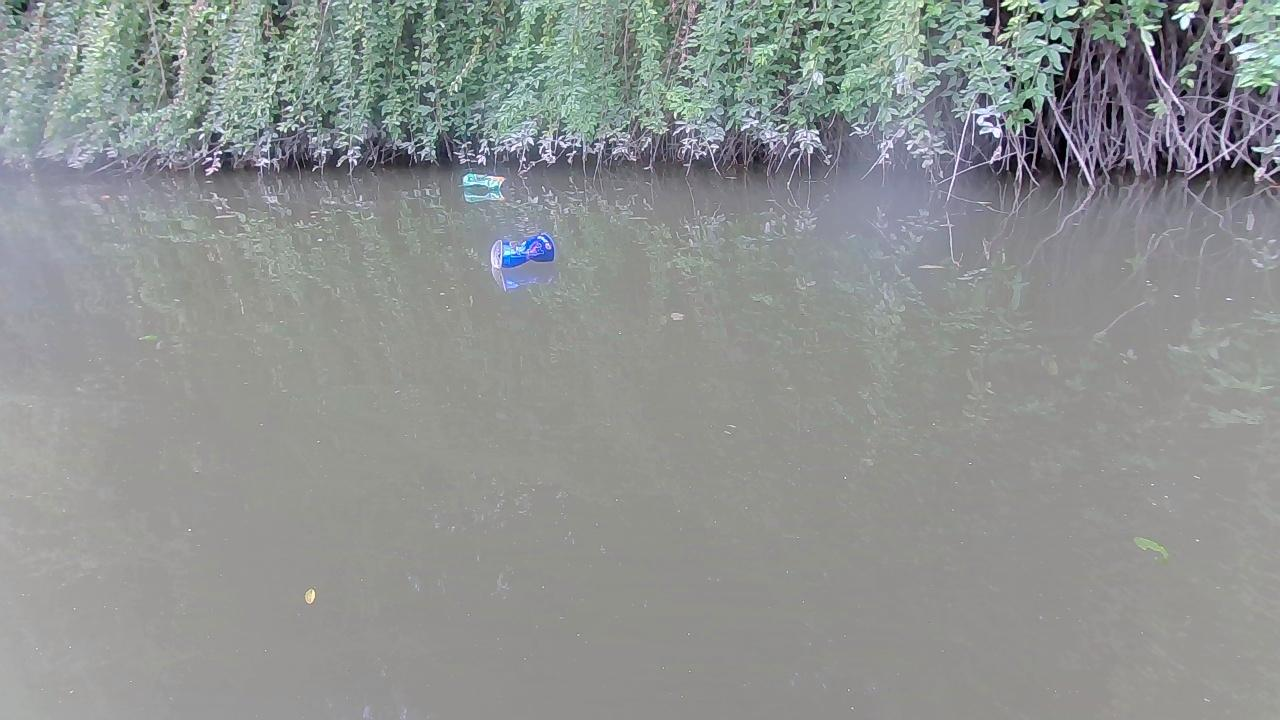Metal: (490, 231, 557, 271), (461, 172, 509, 192)
